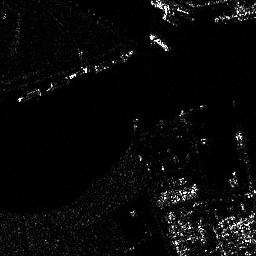ship: (213, 6, 256, 23), (150, 33, 169, 52)
